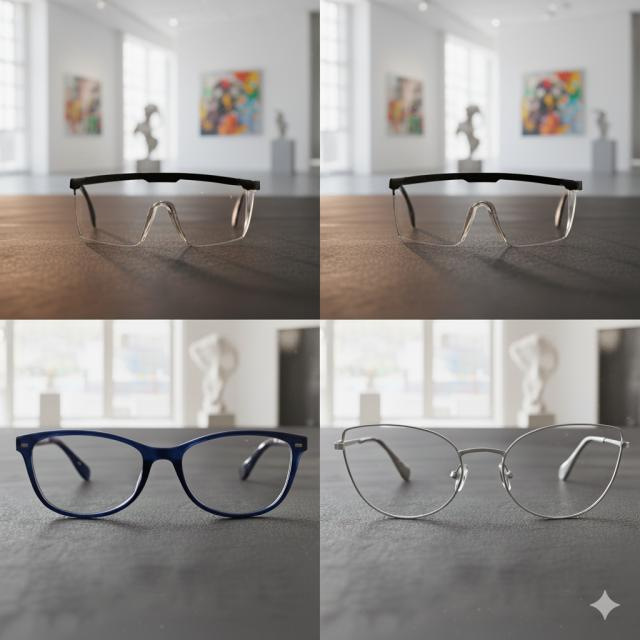oculos-epi: (382, 166, 590, 266), (62, 166, 268, 260)
sem_oculos: (17, 430, 307, 518), (457, 426, 554, 498)
